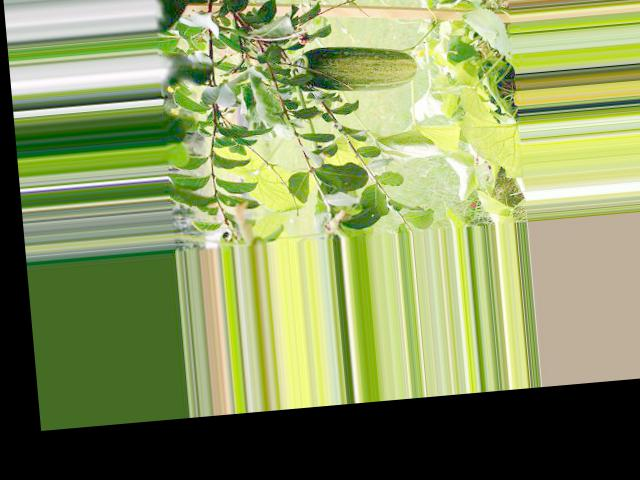cucumber: (289, 38, 418, 96)
